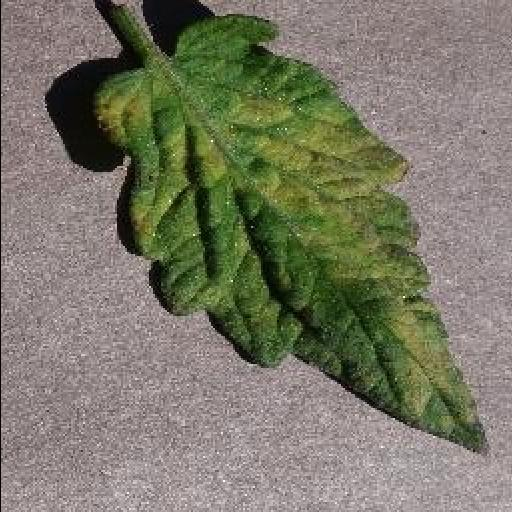disease_tomato: (92, 16, 494, 454)
